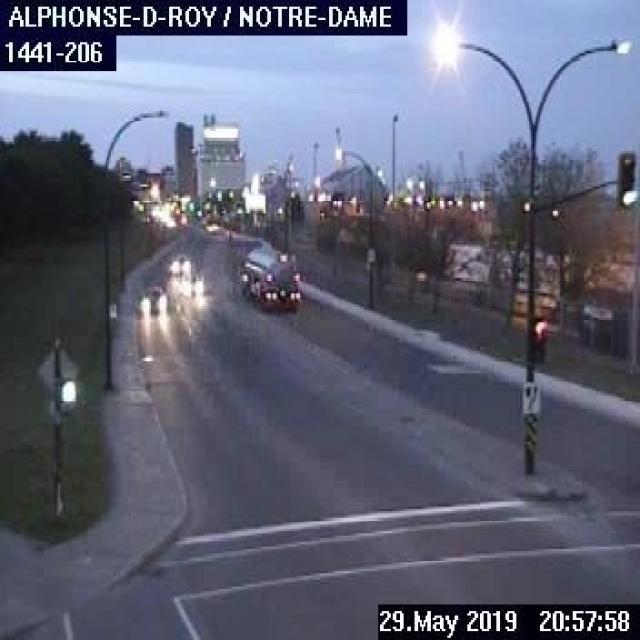vehicle: (238, 245, 300, 311), (137, 284, 167, 315), (166, 253, 189, 276)
